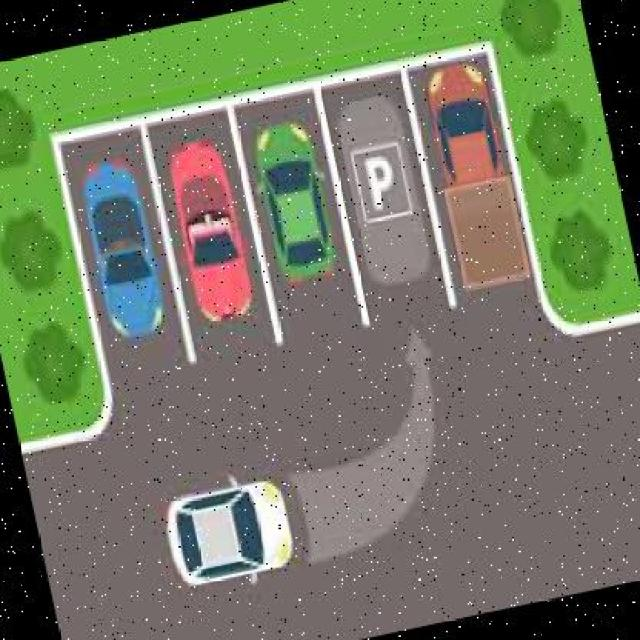Car: (417, 63, 551, 329), (75, 154, 178, 351), (164, 130, 260, 330), (158, 472, 307, 599), (252, 109, 343, 292)
Empty: (324, 81, 458, 329)
